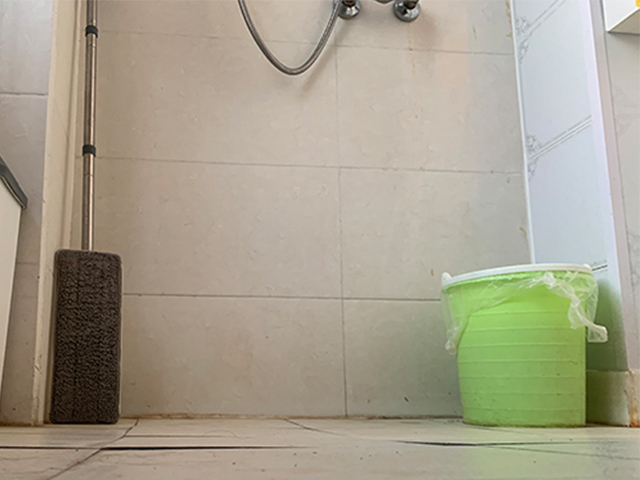trashcan: (441, 264, 599, 428)
